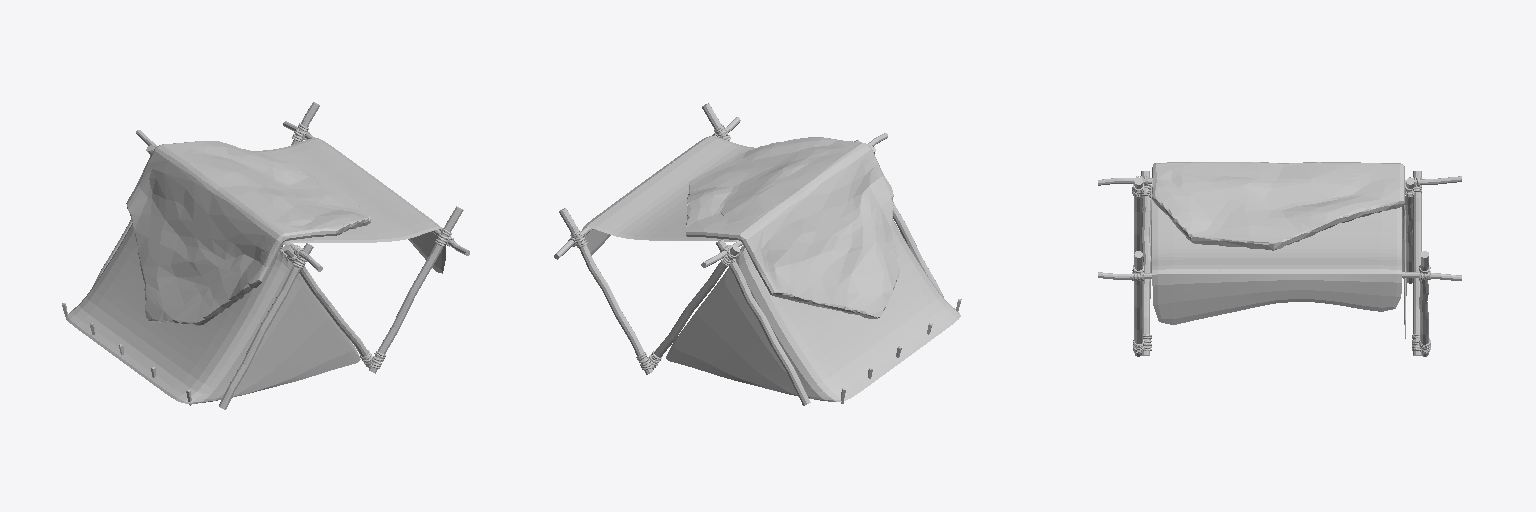
Rendered from midpoly_viking_tent_003.obj.
The picture shows the model from 3 angles: view 1: azimuth 30°, elevation 25°; view 2: azimuth 150°, elevation 25°; view 3: azimuth 270°, elevation 25°; orthographic projection.
Parts seen in each view (by area): view 1: Plane.006, Plane.000, Cylinder.018, Cylinder.022, Cylinder.017, BezierCircle.168; view 2: Plane.006, Plane.000, Cylinder.020, Cylinder.021, Cylinder.019, Cylinder.018, BezierCircle.168; view 3: Plane.006, Plane.000, Cylinder.019, Cylinder.017, Cylinder.022, Cylinder.021, BezierCircle.168, Cylinder.020, Cylinder.023.
Part boxes in pixels (x1,y1,x2,y2): Plane.006: (66, 138, 445, 403); Plane.000: (126, 141, 370, 325); Cylinder.018: (219, 243, 313, 409); Cylinder.022: (369, 206, 463, 373); Cylinder.017: (282, 245, 371, 367); BezierCircle.168: (292, 123, 454, 368); Plane.006: (582, 136, 960, 401); Plane.000: (686, 137, 899, 318); Cylinder.020: (716, 239, 810, 405); Cylinder.021: (559, 208, 652, 374); Cylinder.019: (652, 245, 739, 369); Cylinder.018: (854, 140, 943, 297); BezierCircle.168: (568, 125, 730, 369); Plane.006: (1150, 178, 1406, 338); Plane.000: (1152, 162, 1404, 250); Cylinder.019: (1413, 171, 1421, 355); Cylinder.017: (1141, 171, 1151, 355); Cylinder.022: (1134, 251, 1142, 356); Cylinder.021: (1419, 251, 1428, 356); BezierCircle.168: (1132, 265, 1430, 353); Cylinder.020: (1405, 178, 1414, 283); Cylinder.023: (1098, 270, 1461, 280).
Size of the model in its own units: 7.71 by 4.16 by 8.92.